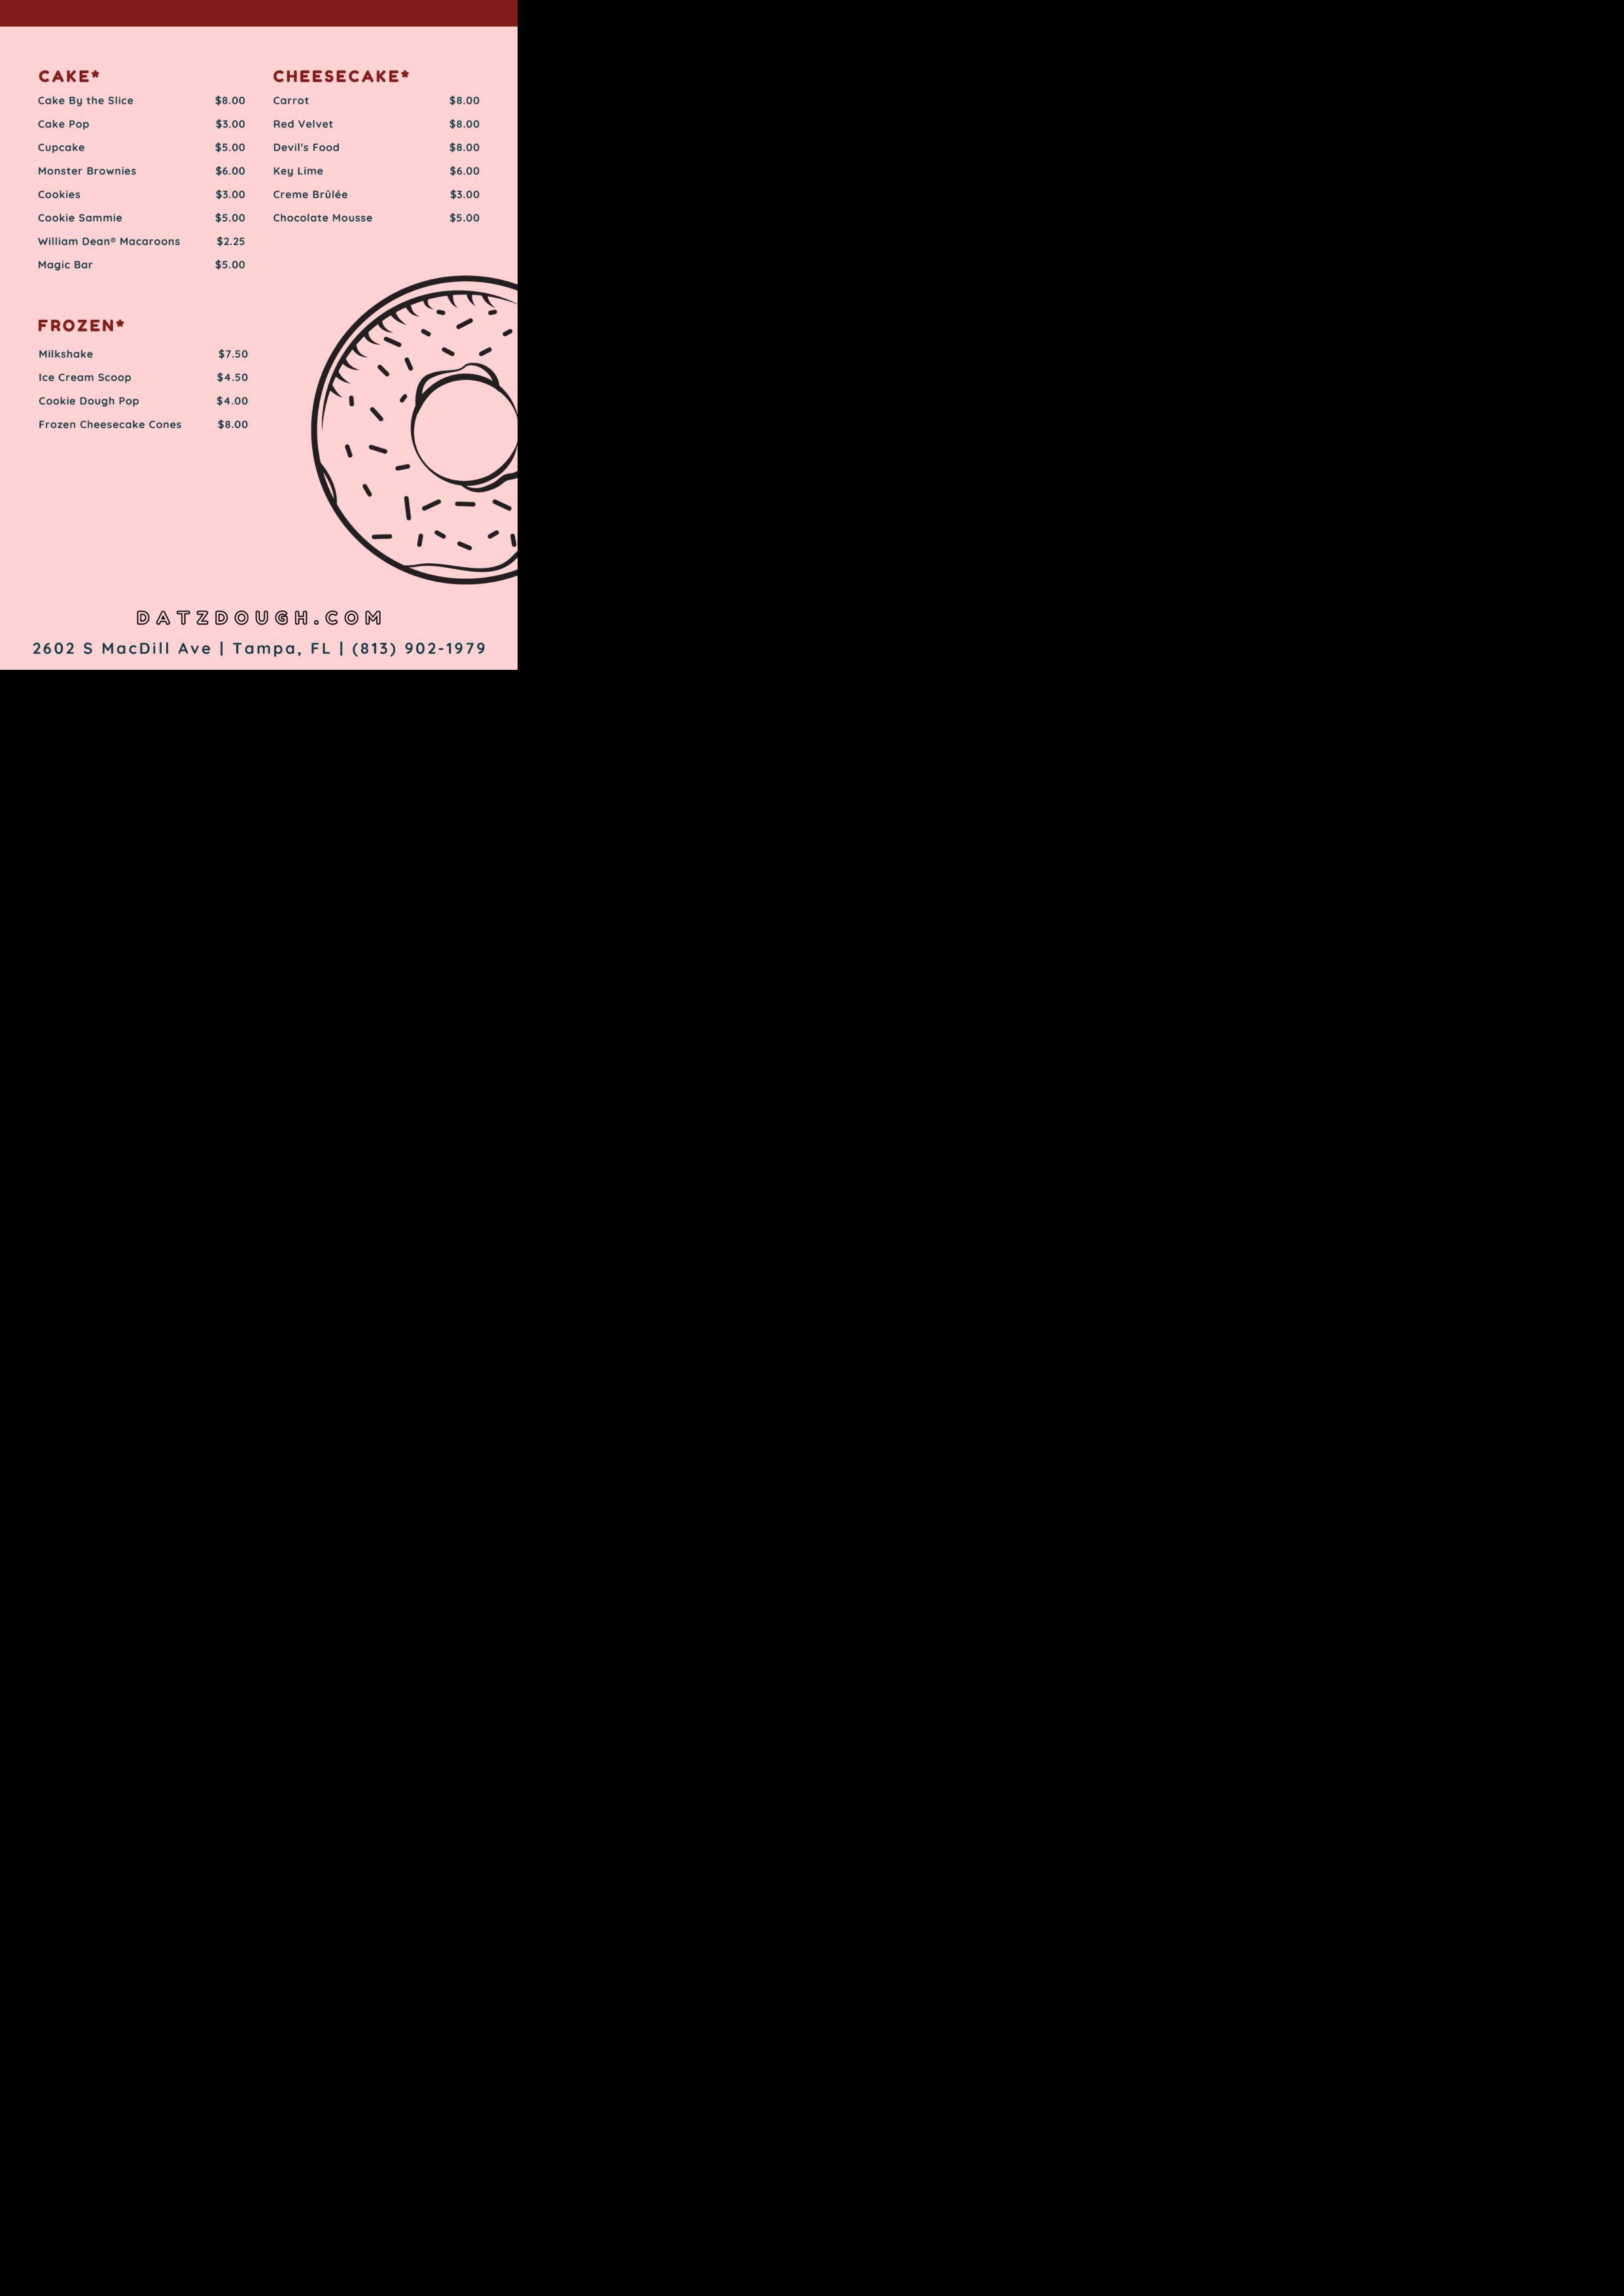item: (38, 415, 251, 434), (38, 368, 249, 385), (38, 347, 251, 362), (37, 394, 250, 408), (37, 211, 247, 225), (37, 94, 248, 108), (35, 187, 247, 201), (36, 118, 247, 131), (37, 258, 247, 272), (272, 94, 482, 108), (37, 234, 247, 248), (273, 164, 482, 177), (272, 211, 482, 224), (272, 187, 484, 200), (37, 165, 248, 177), (36, 141, 247, 153), (272, 141, 482, 153), (274, 119, 480, 131)
price: (217, 368, 249, 384), (216, 394, 249, 408), (215, 212, 245, 226), (215, 141, 245, 154), (215, 94, 246, 107), (449, 211, 480, 224), (217, 347, 249, 359), (214, 258, 246, 270), (216, 419, 249, 430), (449, 165, 480, 177), (449, 94, 482, 105), (449, 118, 480, 130), (449, 188, 481, 200), (215, 165, 245, 177), (449, 141, 480, 152), (215, 188, 245, 200), (216, 118, 245, 130), (217, 235, 246, 247)
tittle: (38, 418, 184, 431), (37, 235, 183, 247), (39, 393, 140, 408), (39, 370, 132, 383), (272, 212, 374, 224), (37, 96, 135, 107), (272, 186, 351, 200), (37, 166, 138, 176), (37, 212, 123, 223), (274, 141, 341, 152), (39, 347, 95, 360), (38, 260, 95, 271), (37, 142, 85, 154), (39, 118, 89, 130), (273, 165, 325, 176), (274, 120, 334, 128), (38, 189, 82, 200), (273, 95, 312, 105)
